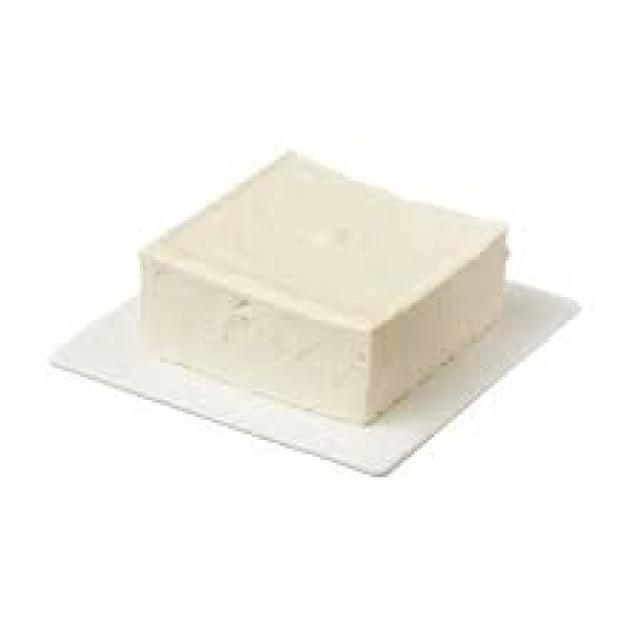tofu: (90, 130, 547, 432)
